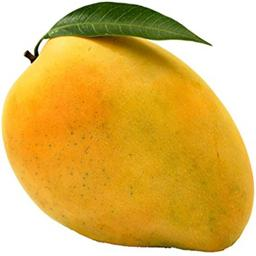Mango Fresh: (4, 8, 255, 254)
